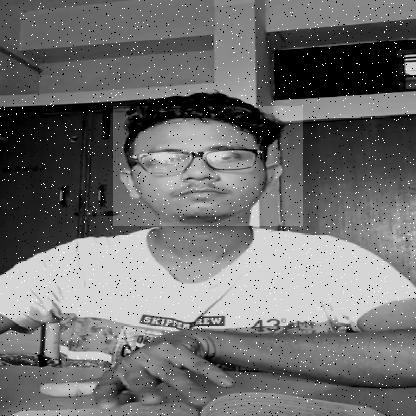Normal: (113, 107, 303, 226)
